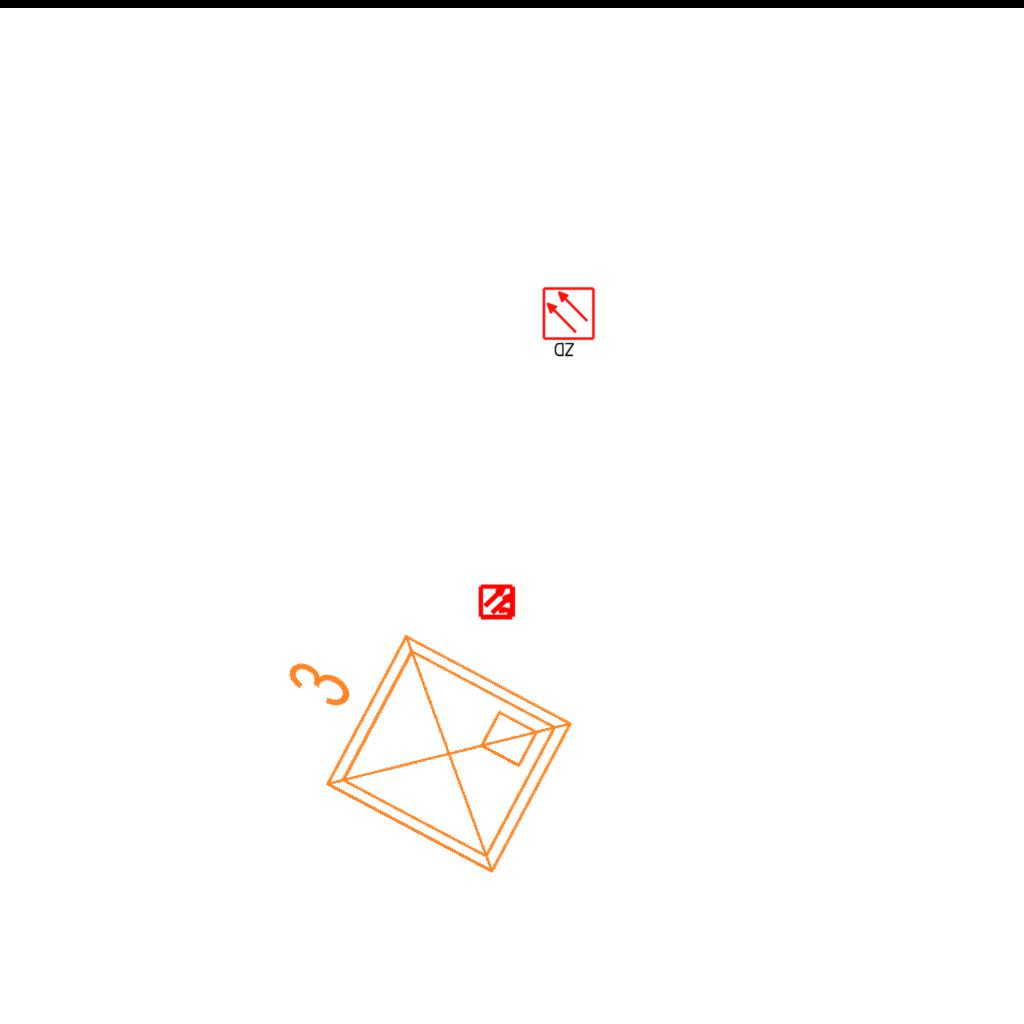Einbaudownlights_LED_Konferenzraeume: (229, 575, 593, 901)
OT_Multisensormelder_(Kombination_RMO_WMD): (470, 574, 526, 630)
ZD_Melder_in_Zwischendecke_mit_Revisionsoeffnung_mind_40_x_40_cm: (541, 286, 598, 360)
